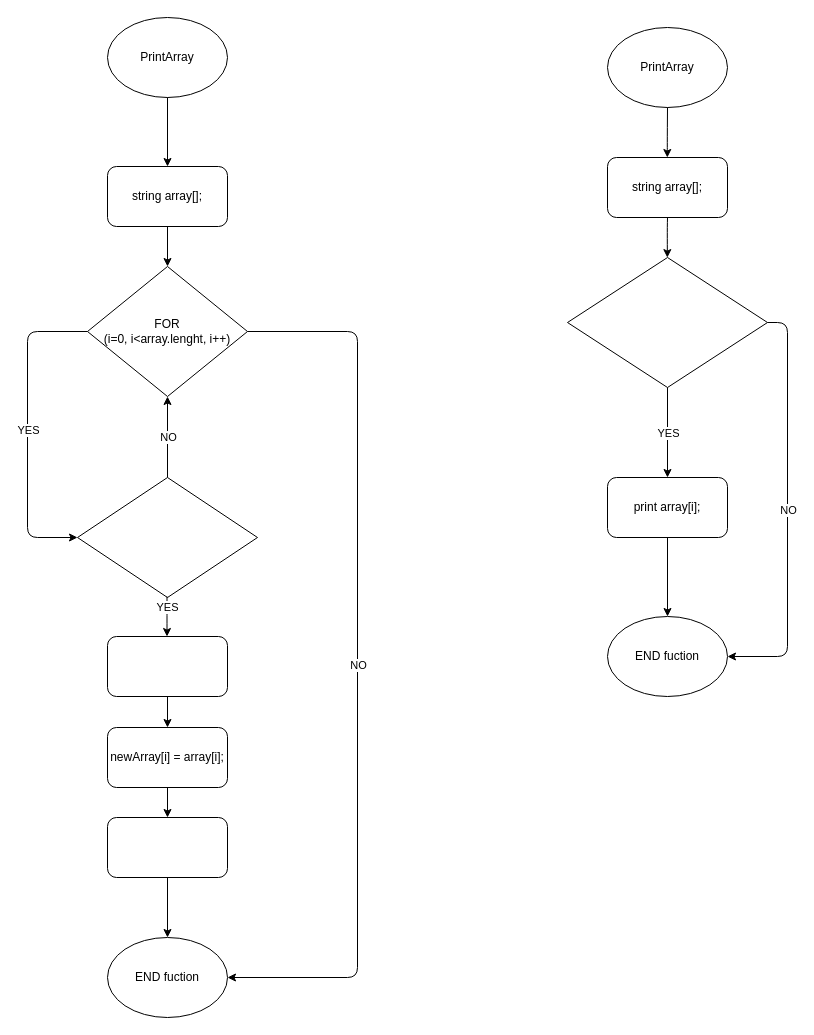
Image size: 814x1035. Some labels were removed from this diagram. The shapes that lost their labels are listed below. From the top down, each one's centre as x and y in pixels, then its label:
At point (667, 322): "FOR (i = 0, i < array.lenght, i++)".
At point (167, 537): "if (array [i].lenght<=3".
At point (167, 666): "newArray".
At point (167, 847): "print newArray[i];".
